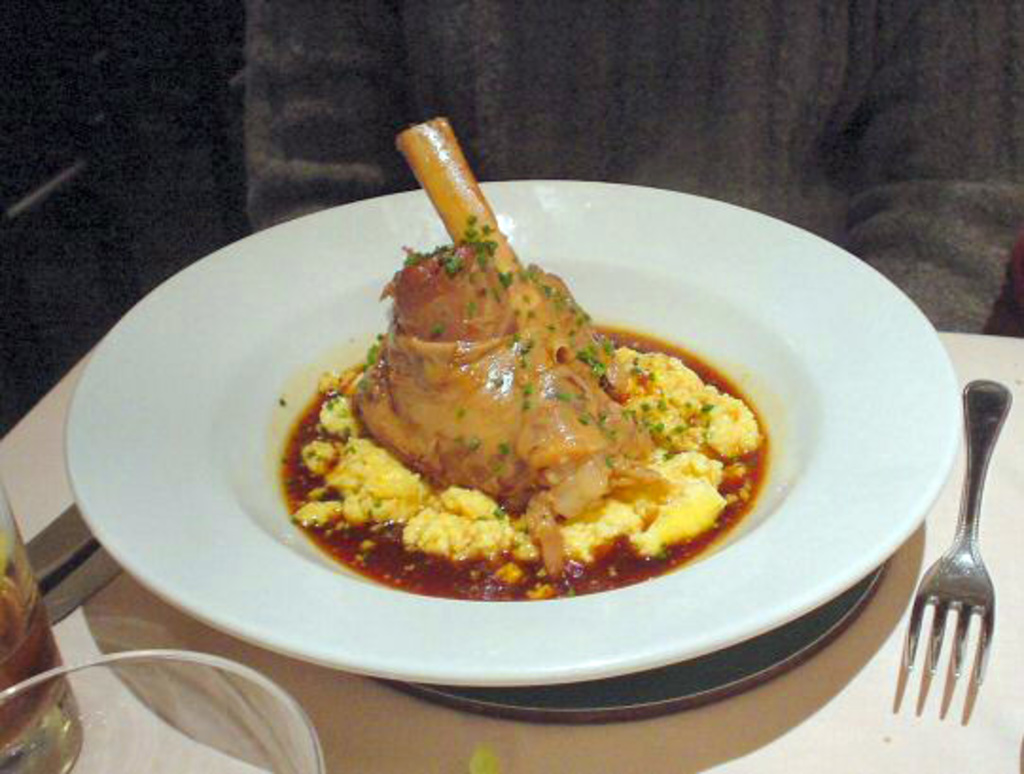fork: (888, 379, 1015, 726)
